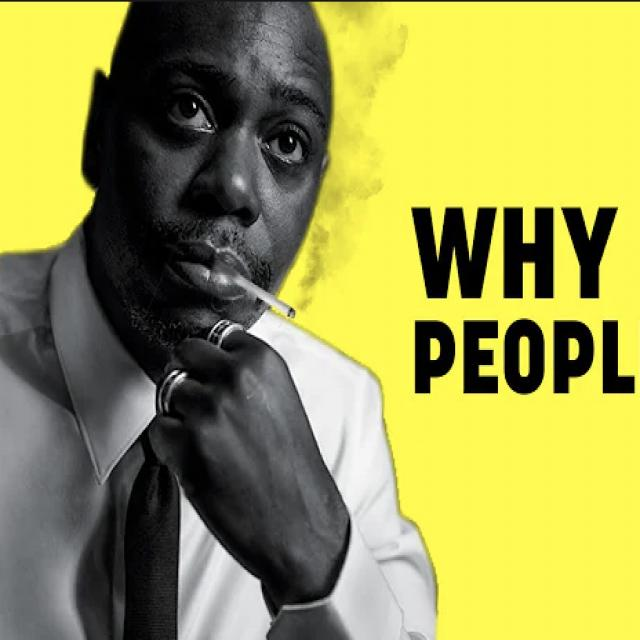smoke: (232, 272, 308, 333)
